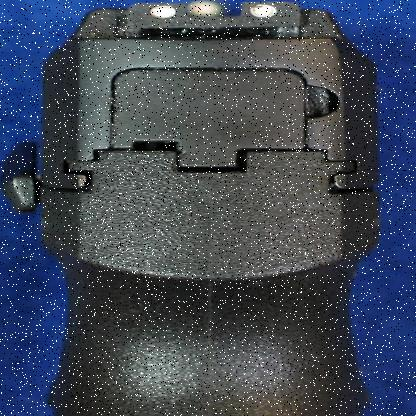pistol: (45, 1, 375, 413)
